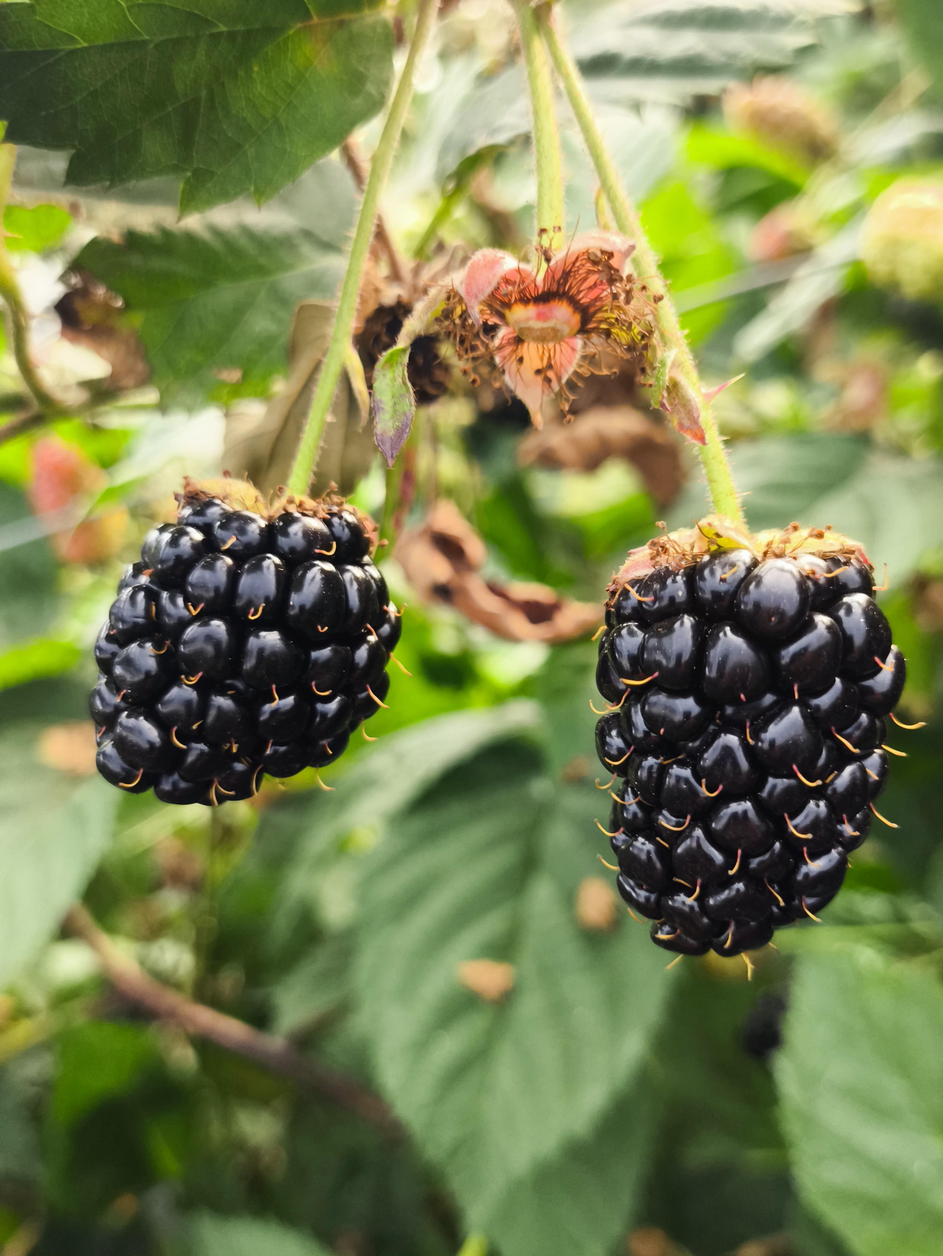maduro: (600, 520, 891, 963), (91, 500, 391, 809)
